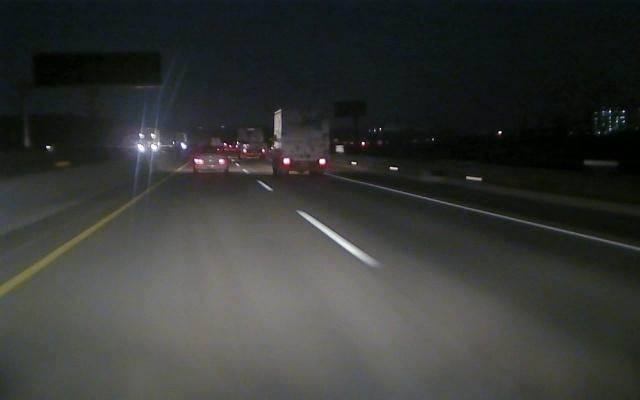lane: (328, 174, 638, 252), (1, 195, 141, 296), (258, 182, 384, 266)
